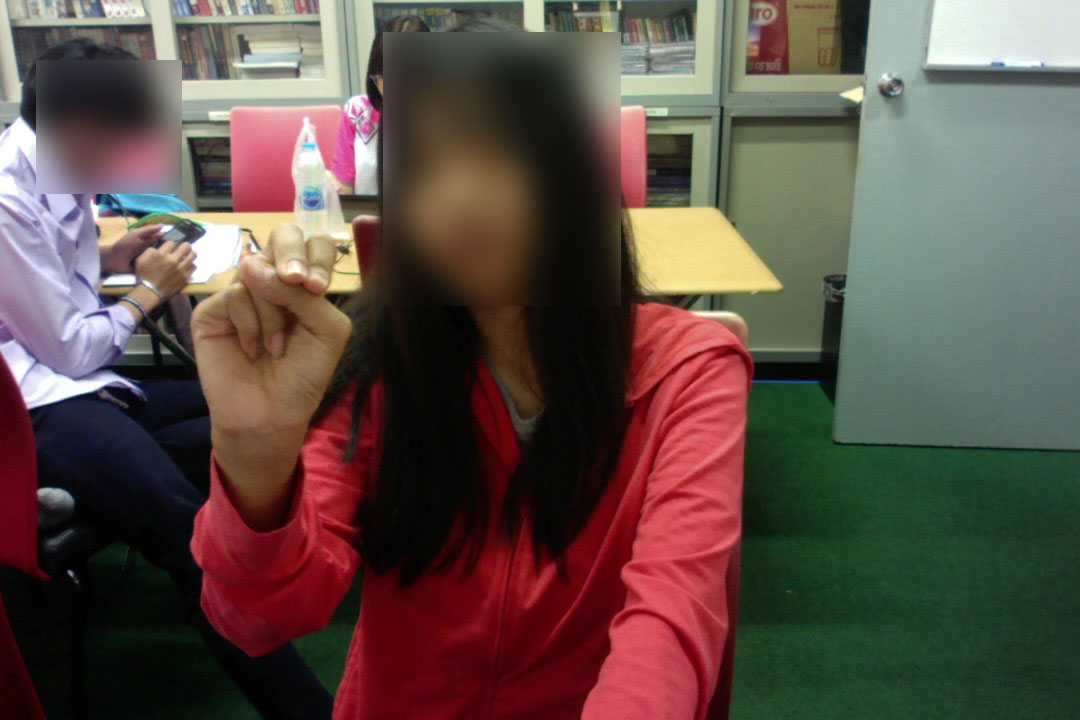nor: (182, 218, 359, 453)
